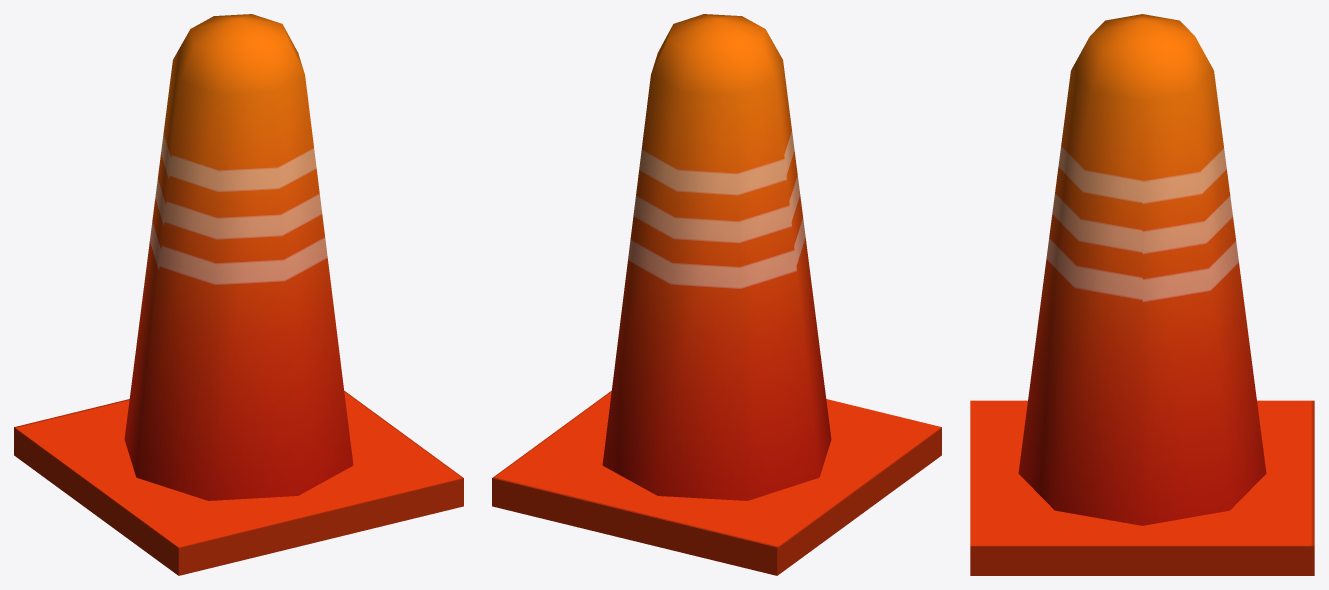
Rendered from Pylon.fbx.
3 renders of one model, left to right at view 1: azimuth 30°, elevation 25°; view 2: azimuth 150°, elevation 25°; view 3: azimuth 270°, elevation 25°, orthographic. The views are drawn at different scales.
Visible parts, largest first — view 1: PylonB; view 2: PylonB; view 3: PylonB.
Part boxes in pixels (<box>): PylonB: <box>14,14,463,575</box>; PylonB: <box>492,14,941,575</box>; PylonB: <box>970,14,1314,575</box>.
Bounding box in the file's own units: 50 × 77.39 × 50.
